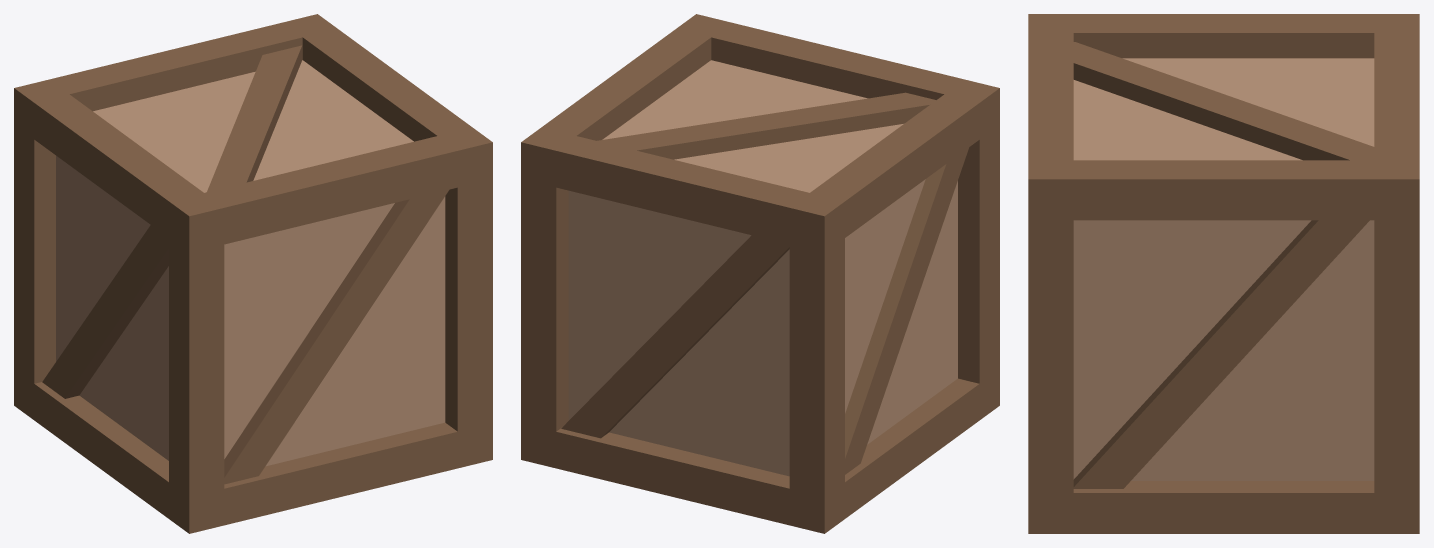
File: Wood Large Crate 1.fbx
3 views of the same model, side by side, from view 1: azimuth 30°, elevation 25°; view 2: azimuth 150°, elevation 25°; view 3: azimuth 270°, elevation 25° (orthographic). The views are drawn at different scales.
Visible parts, largest first — view 1: Wooden_Crate_Large; view 2: Wooden_Crate_Large; view 3: Wooden_Crate_Large.
Part boxes in pixels (bbox=[...]): Wooden_Crate_Large: bbox=[14, 14, 492, 533]; Wooden_Crate_Large: bbox=[521, 14, 999, 533]; Wooden_Crate_Large: bbox=[1028, 14, 1419, 533].
Size of the model in its own units: 184 by 184 by 184.
